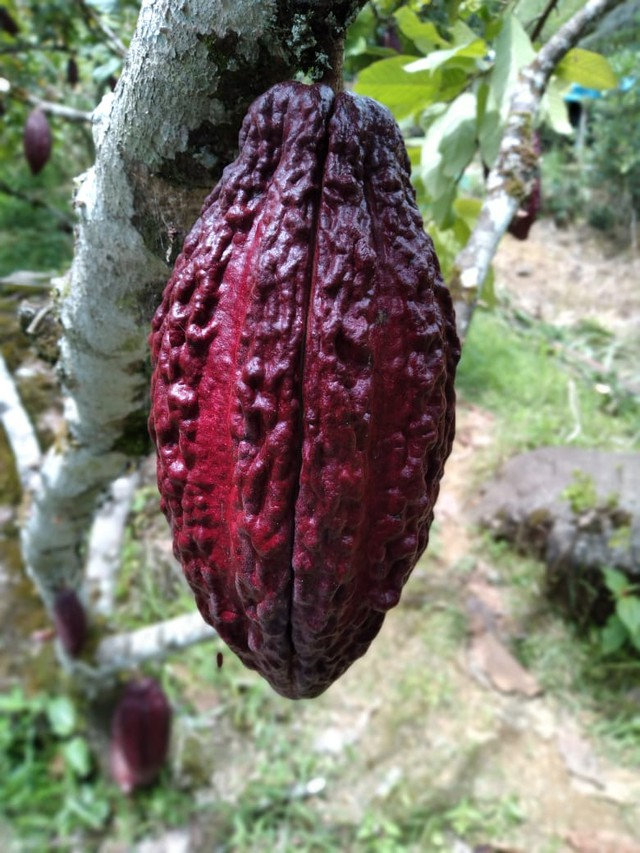Health: (137, 71, 468, 703)
